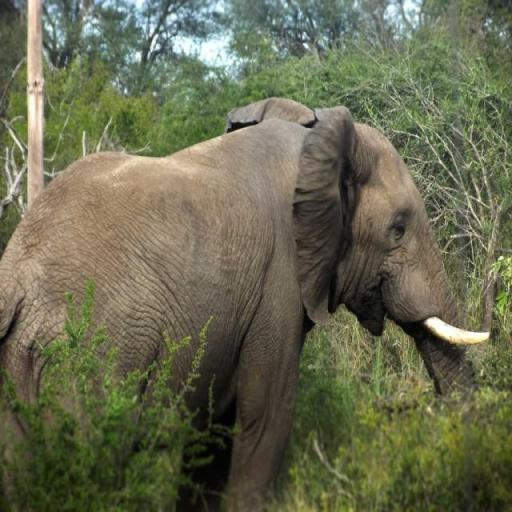Elephant: (0, 96, 490, 510)
